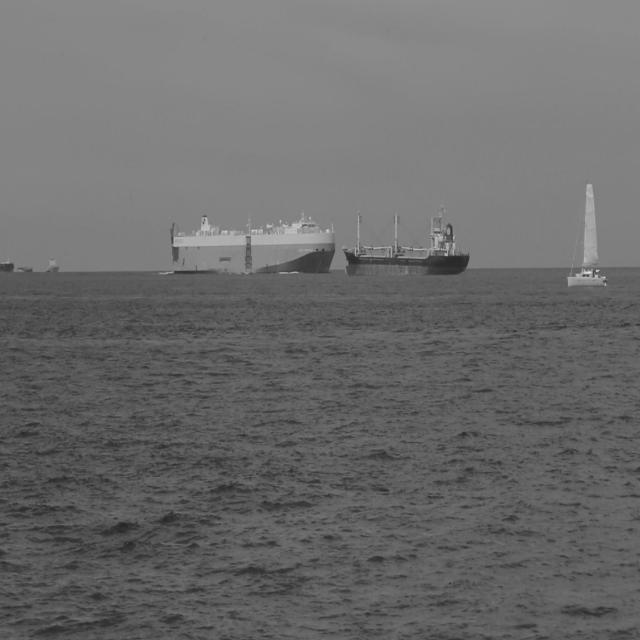ship: (169, 210, 336, 276), (340, 200, 471, 278), (565, 178, 608, 288), (45, 252, 59, 274), (0, 256, 15, 274), (15, 263, 34, 274)
